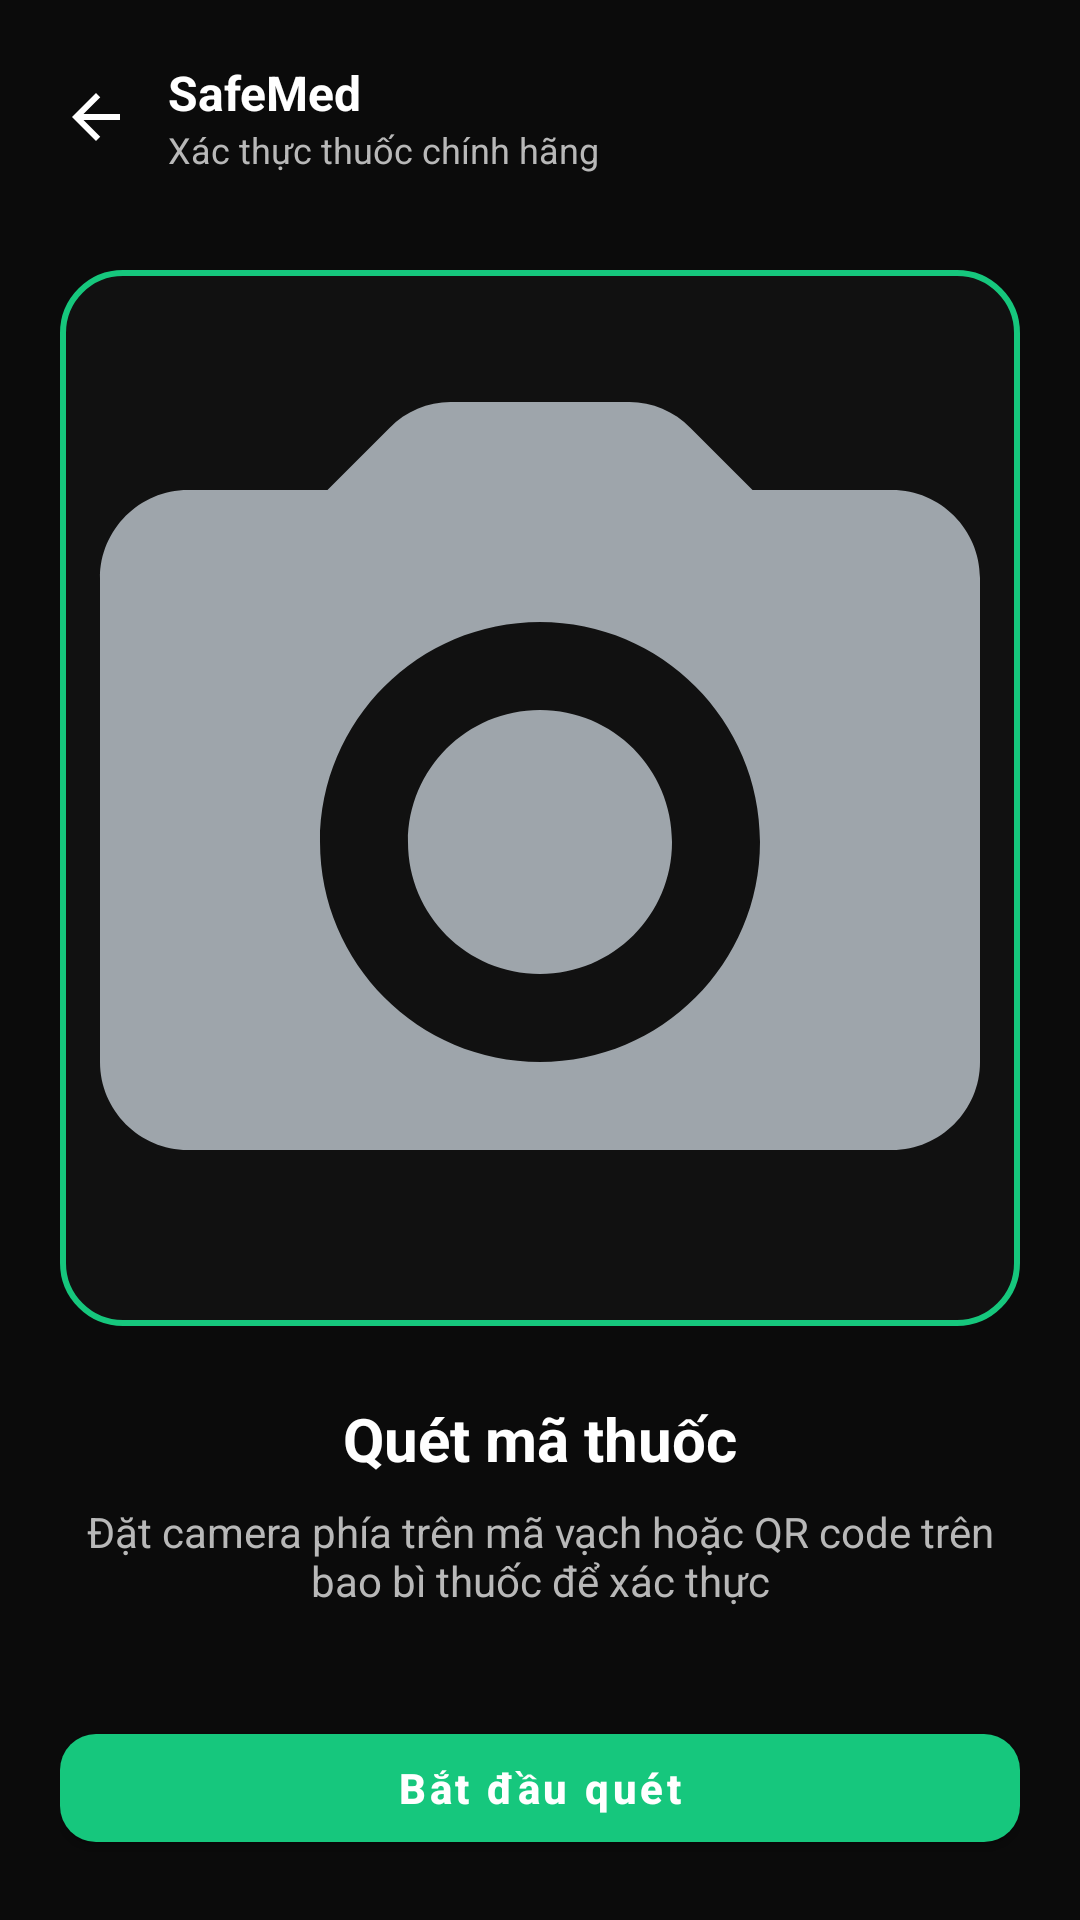

Icon click points for this 1080*1920 phone screenshot, format [x,y]:
arrow back: [96,117]
